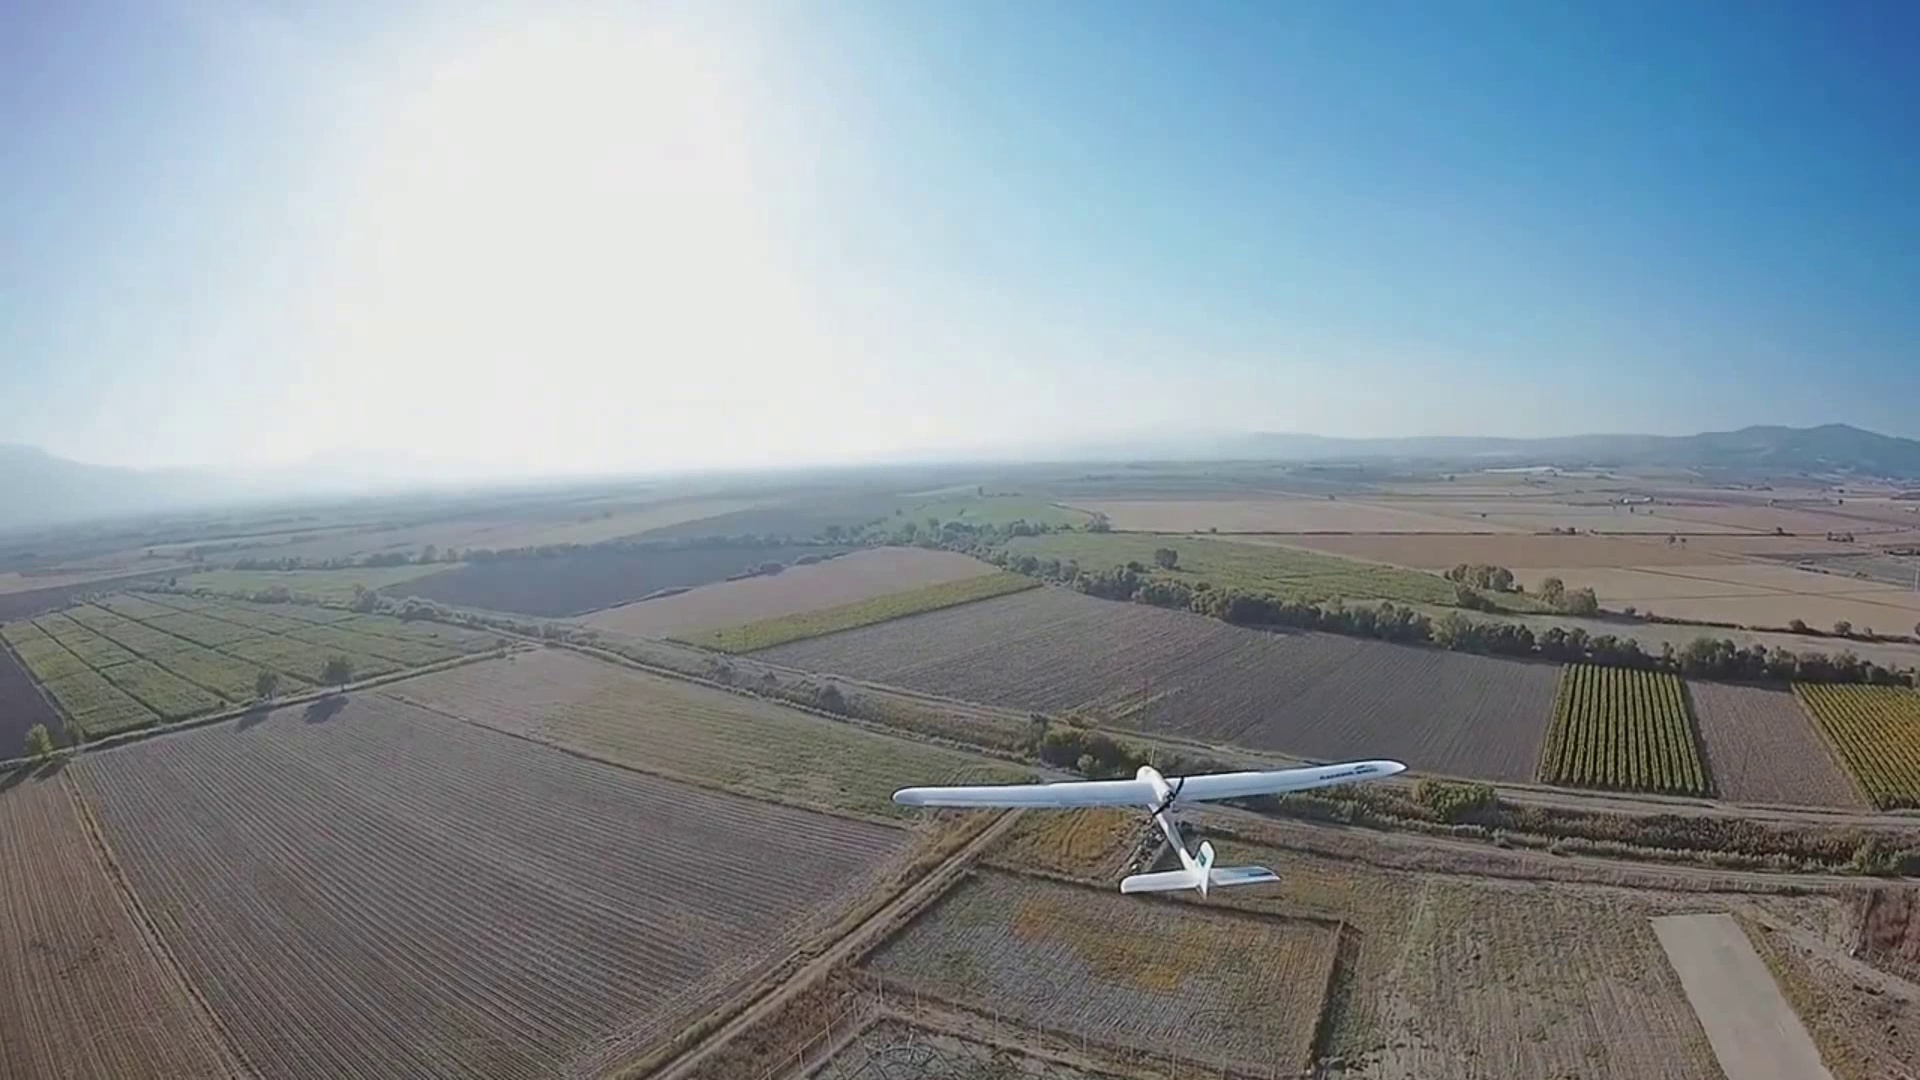airplane: (889, 757, 1408, 899)
